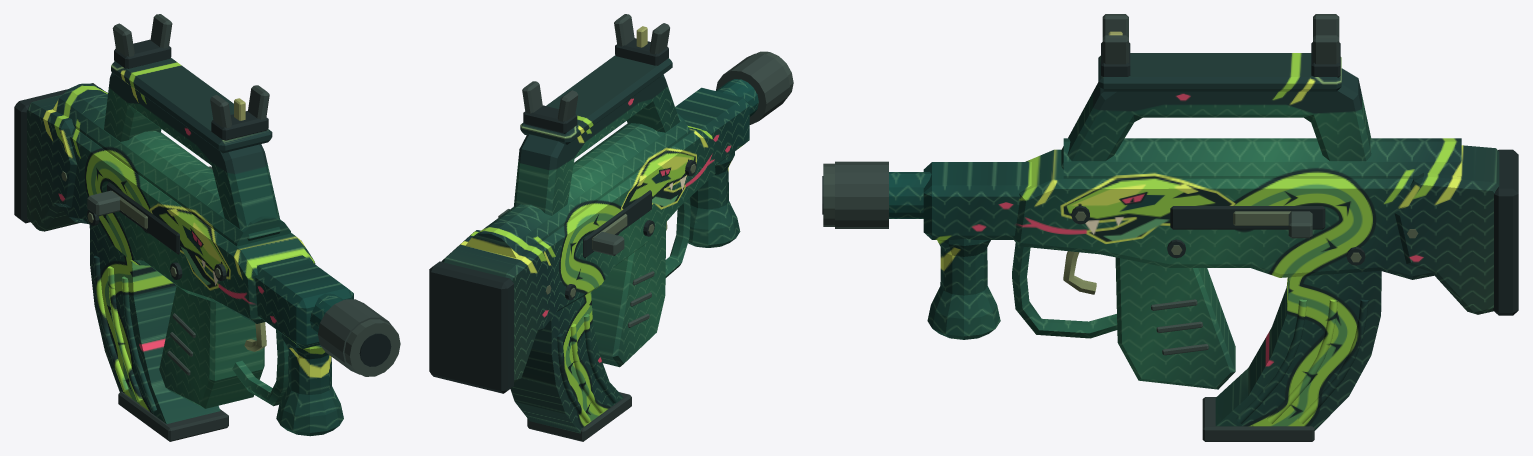
The model's file is Groza_Sidewinder.glb.
3 views of the same model, side by side, from view 1: azimuth 30°, elevation 25°; view 2: azimuth 150°, elevation 25°; view 3: azimuth 270°, elevation 25° (orthographic). The views are drawn at different scales.
Visible parts, largest first — view 1: Main, Magazine, Stock; view 2: Main, Stock, Magazine; view 3: Main, Magazine, Stock.
Boxes of the visible parts, bbox=[...] form: Main: bbox=[53, 14, 400, 436]; Magazine: bbox=[89, 225, 228, 441]; Stock: bbox=[14, 83, 107, 231]; Main: bbox=[465, 14, 793, 367]; Stock: bbox=[429, 230, 553, 393]; Magazine: bbox=[510, 292, 631, 441]; Main: bbox=[822, 14, 1461, 389]; Magazine: bbox=[1202, 271, 1381, 441]; Stock: bbox=[1394, 145, 1518, 315].
Size of the model in its own units: 0.636 by 1.8 by 2.83.
Materials: 1 (1 with a texture image).
